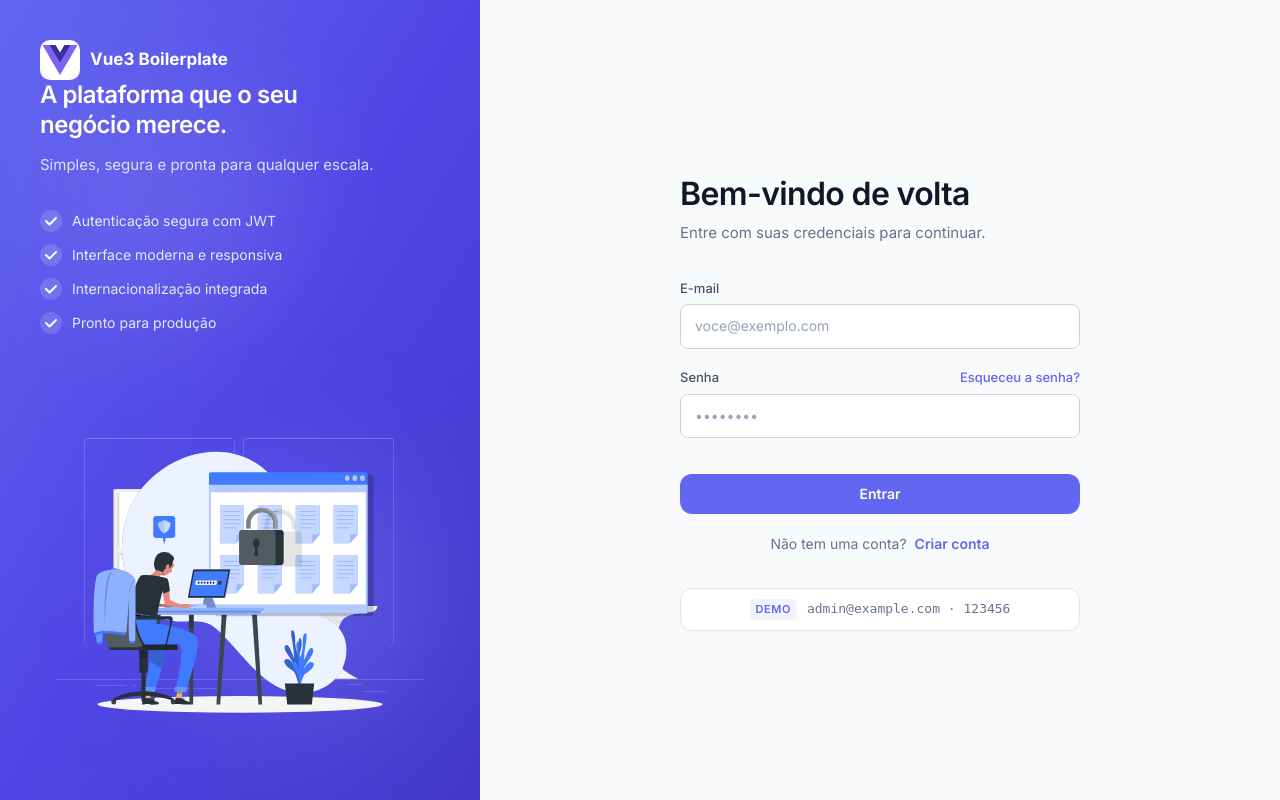
Test: LoginView › alterna para cadastro limpando formulário e erro
The image size is (1280, 800).
Type "invalid@example.com" into the field with id "email" at (880, 327), box [680, 304, 1080, 349]
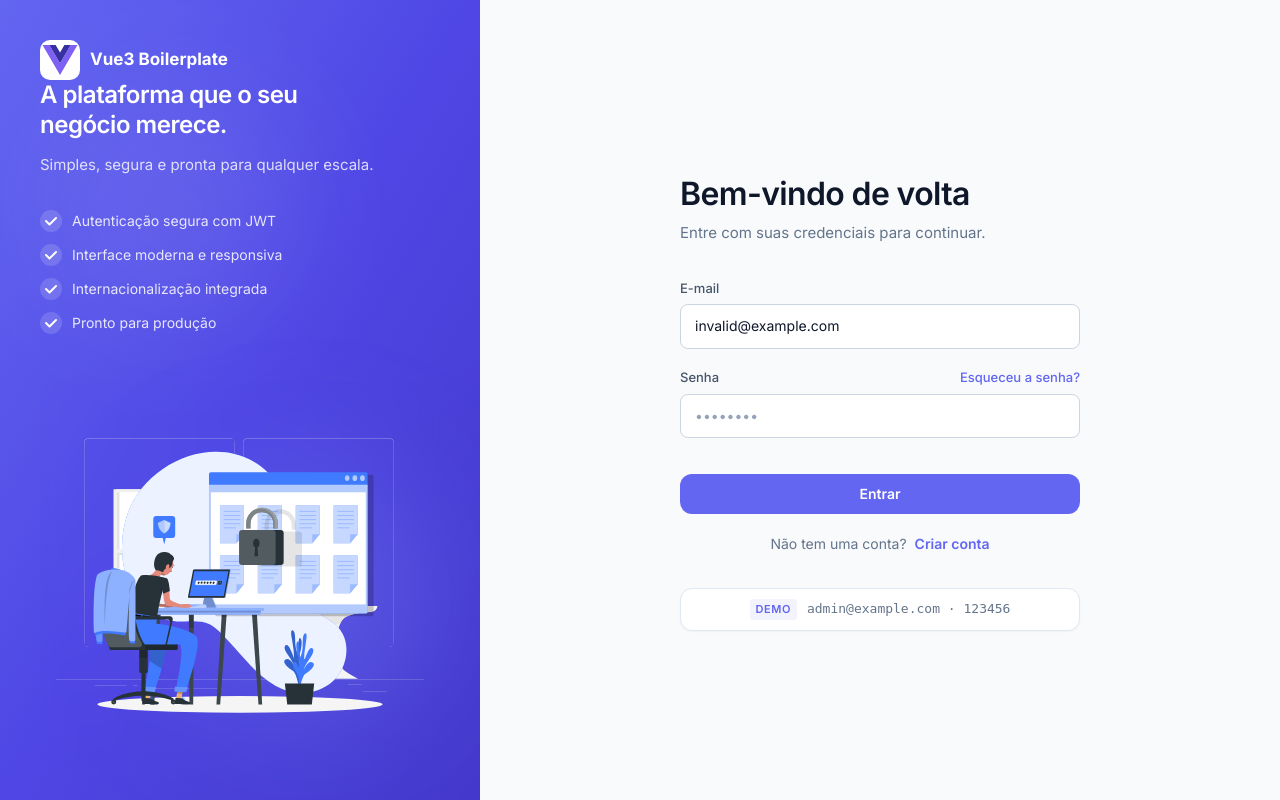
Type "wrongpassword" into the password field labelled "Senha" at (880, 416), box [680, 394, 1080, 438]
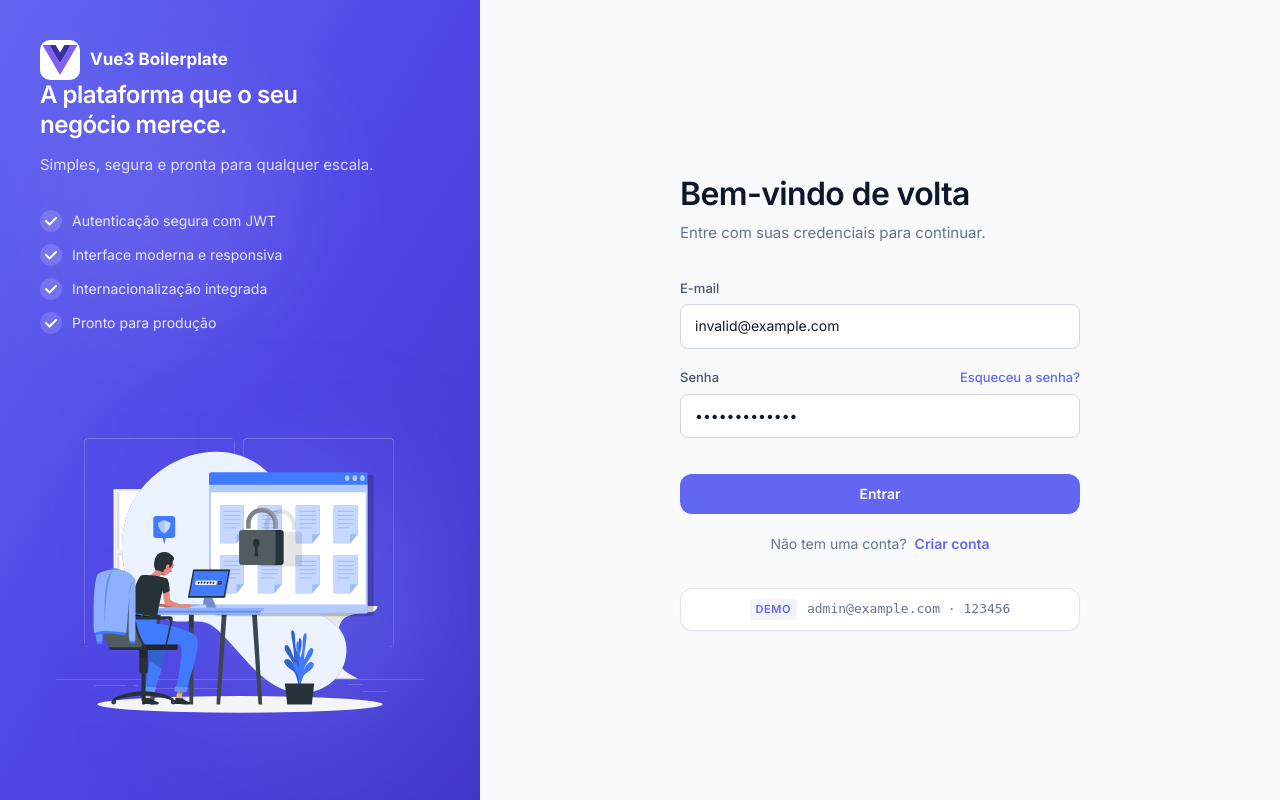
Submit the form, box [680, 278, 1080, 556]
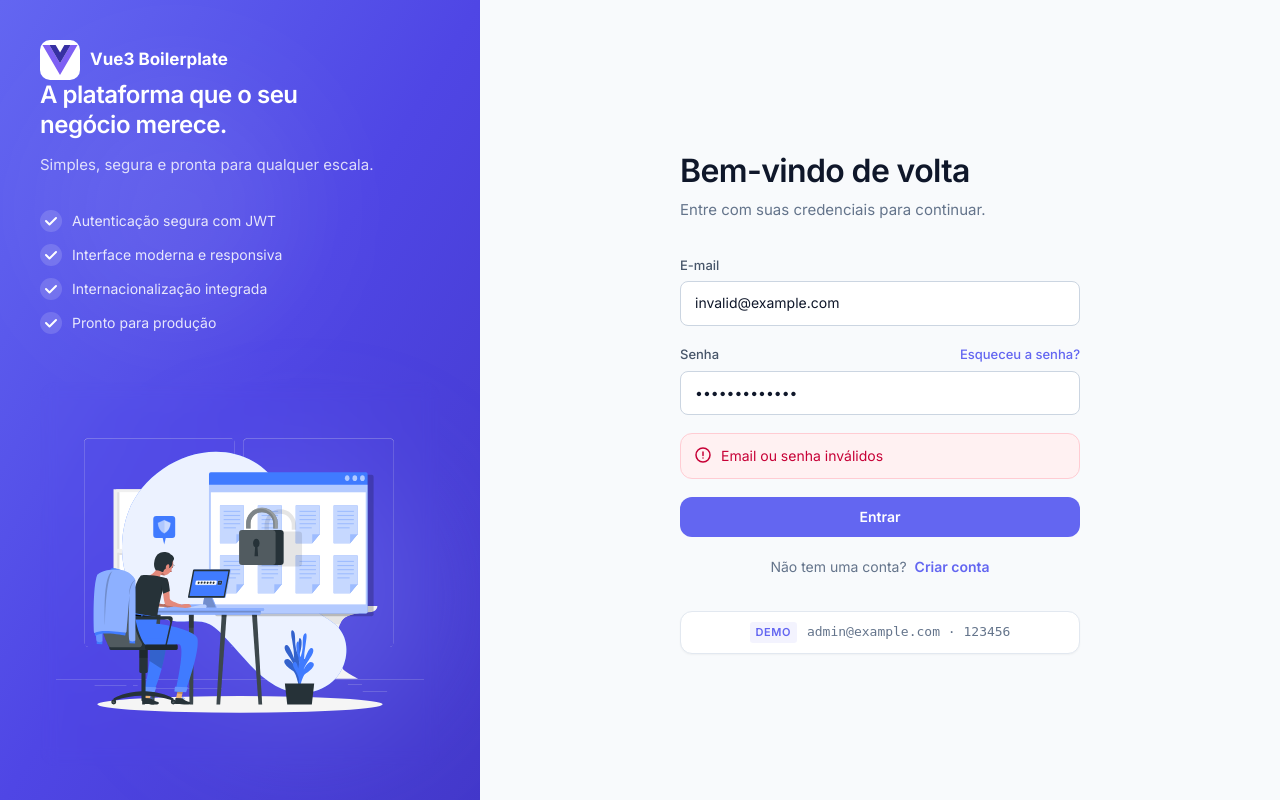
Click the button "Criar conta" at (952, 567), box [915, 555, 990, 579]
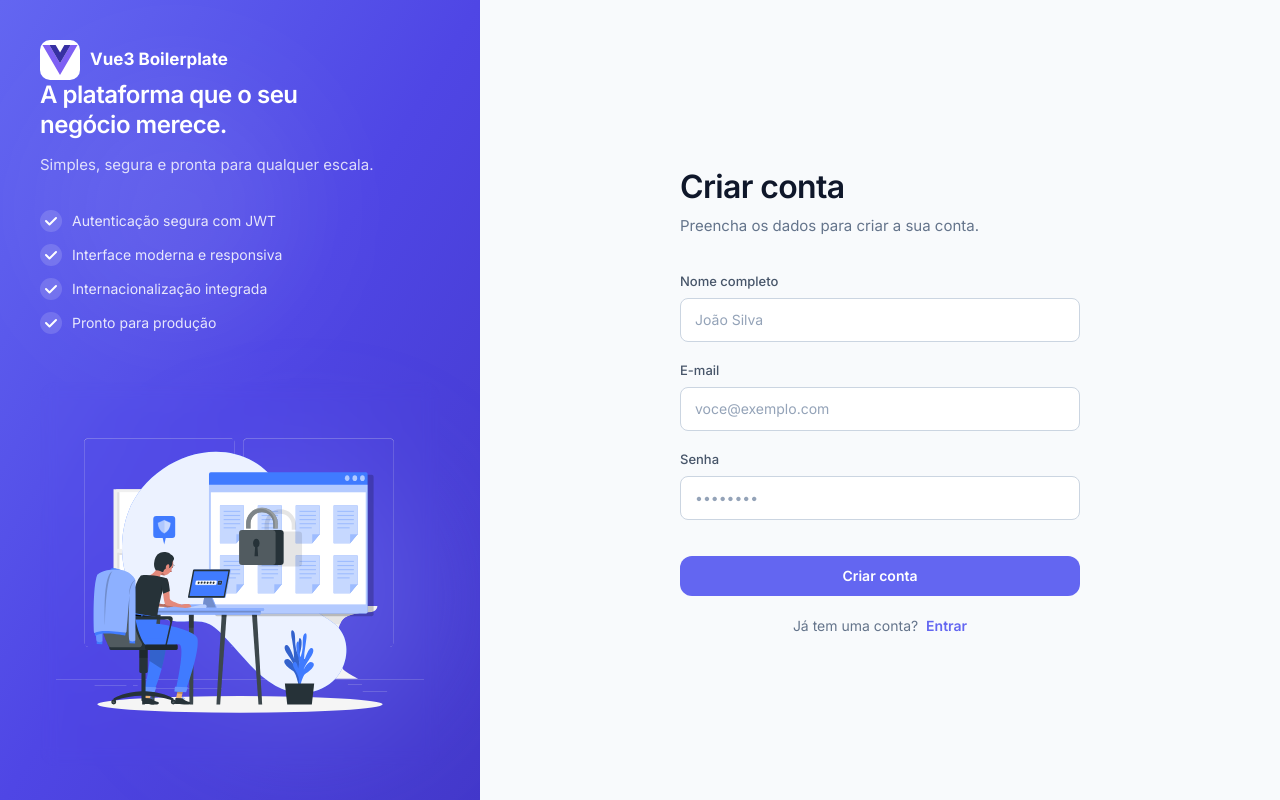
expect the field with id "email" is empty: met, box [680, 387, 1080, 431]
expect the password field labelled "Senha" is empty: met, box [680, 476, 1080, 520]
expect the field with id "name" is shown: met, box [680, 298, 1080, 342]
